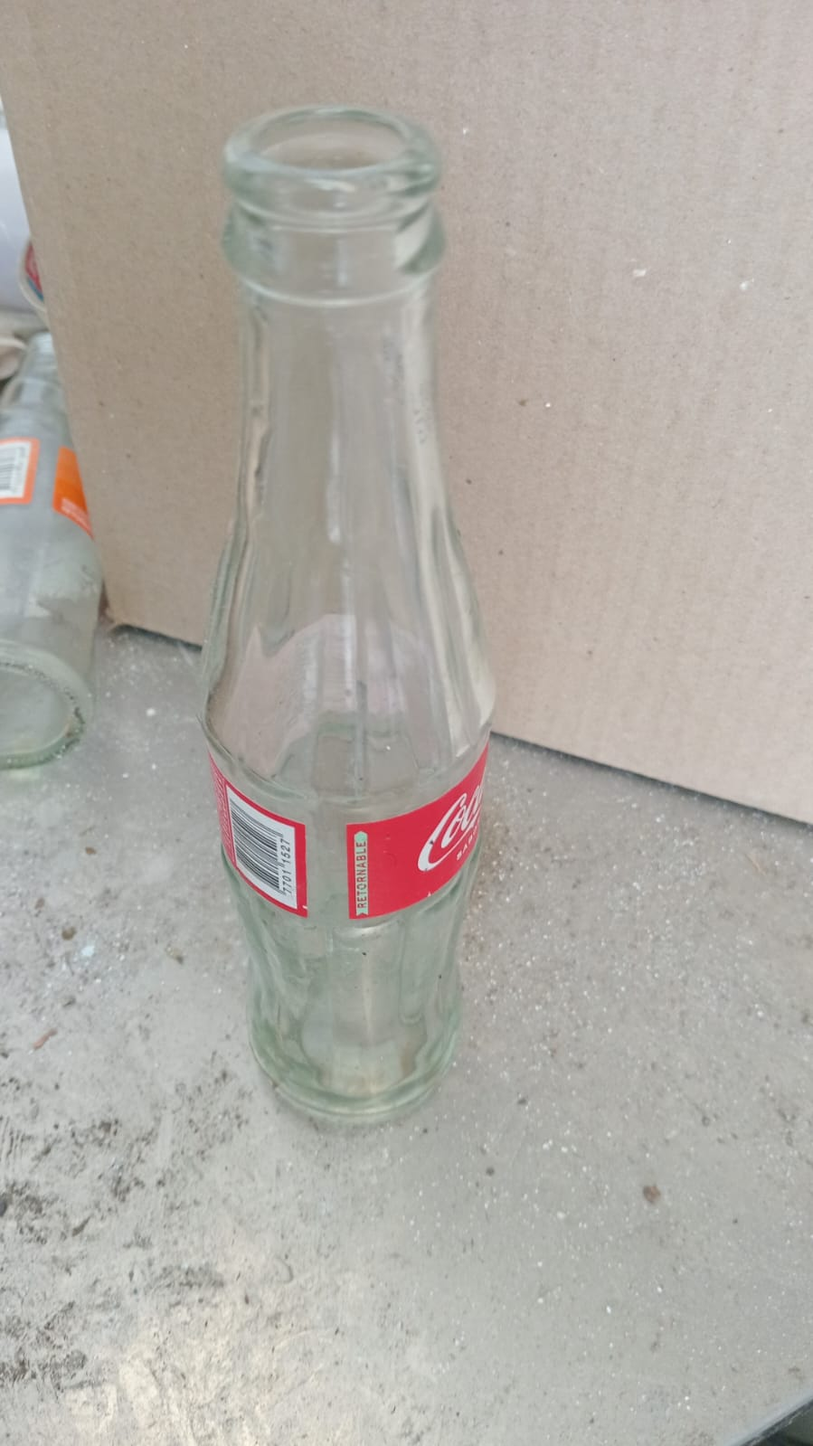Vidrio: (208, 105, 500, 1121), (0, 325, 105, 768)
